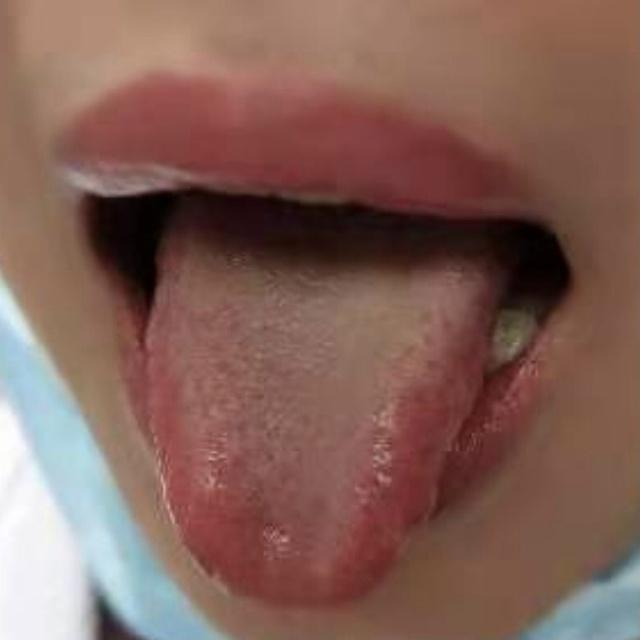hongshe: (144, 212, 497, 610)
huangtaishe: (144, 212, 497, 610)
